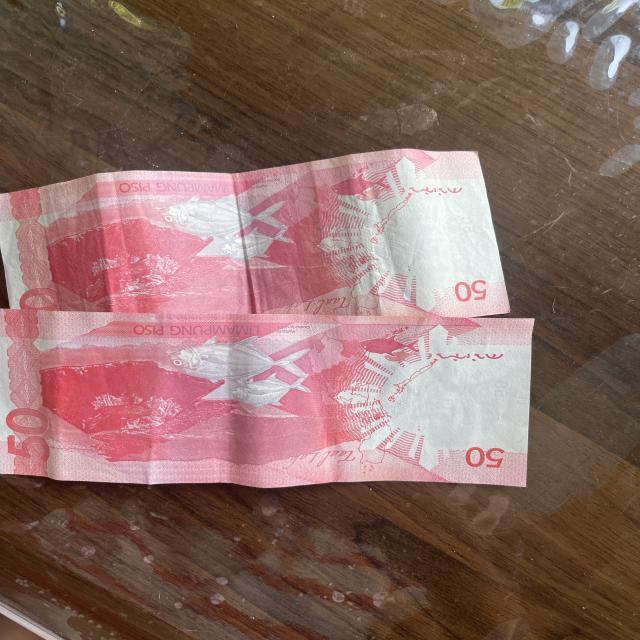50_maliputo: (154, 328, 320, 423), (152, 189, 306, 273)
50_maliputo_watermark: (350, 328, 424, 364), (319, 168, 395, 202)
value_watermark: (479, 374, 513, 404)
watermark: (372, 351, 512, 455)
